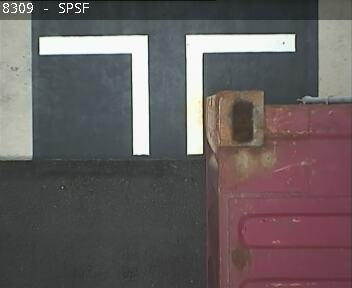groundmarker_1: (37, 33, 294, 155)
